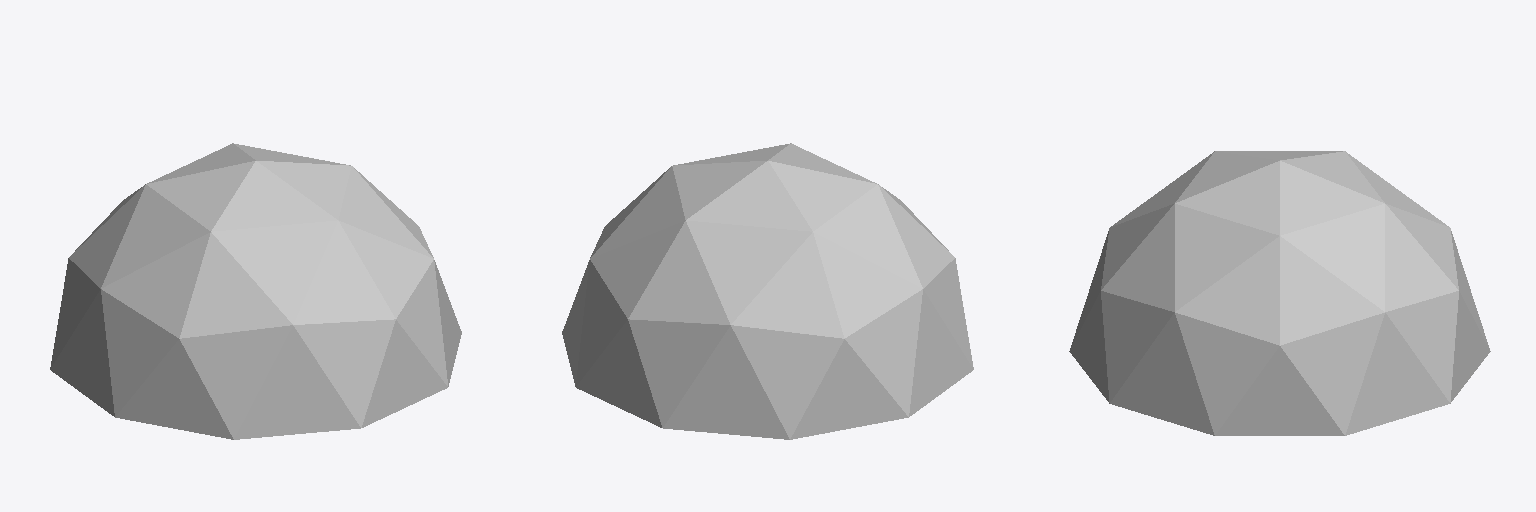
File: stardome.obj
The picture shows the model from 3 angles: view 1: azimuth 30°, elevation 25°; view 2: azimuth 150°, elevation 25°; view 3: azimuth 270°, elevation 25°; orthographic projection.
Parts seen in each view (by area): view 1: Icosphere; view 2: Icosphere; view 3: Icosphere.
Part boxes in pixels (left/top/right/bottom): Icosphere: left=50, top=143, right=461, bottom=439; Icosphere: left=562, top=143, right=973, bottom=439; Icosphere: left=1069, top=151, right=1490, bottom=435.
Size of the model in its own units: 29.51 by 15.51 by 31.03.